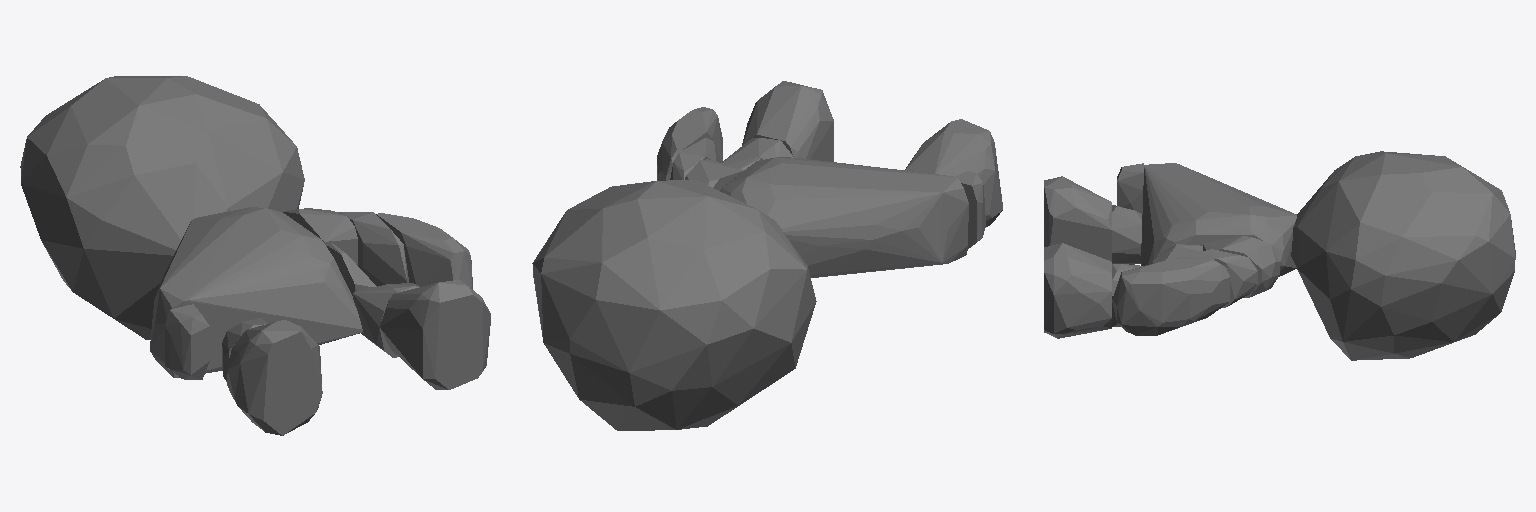
URDF robot description (toy_004):
<?xml version="1.0" ?>
<robot name="toy_004">
  <material name="color">
    <color rgba=".5 .5 .5 1"/>
  </material>

  <link name="base_link">
    <contact>
      <lateral_friction value="1.0"/>
      <rolling_friction value="0.001"/>
      <spinning_friction value="0.001"/>
      <inertia_scaling value="1.0"/>
    </contact>
    <inertial>
      <origin rpy="0 0 0" xyz="-0.00978458 1.54031 -0.0658934"/>
       <mass value="0.1"/>
       <inertia ixx="1" ixy="0" ixz="0" iyy="1" iyz="0" izz="1"/>
    </inertial>

    <visual>
      <origin rpy="0 0 0" xyz="0 0 0"/>
      <geometry>
        <mesh filename="toy_004_vhacd_0_of_11.obj" scale="1 1 1"/>
      </geometry>
      <material name="color"/>
    </visual>
    <visual>
      <origin rpy="0 0 0" xyz="0 0 0"/>
      <geometry>
        <mesh filename="toy_004_vhacd_1_of_11.obj" scale="1 1 1"/>
      </geometry>
      <material name="color"/>
    </visual>
    <visual>
      <origin rpy="0 0 0" xyz="0 0 0"/>
      <geometry>
        <mesh filename="toy_004_vhacd_2_of_11.obj" scale="1 1 1"/>
      </geometry>
      <material name="color"/>
    </visual>
    <visual>
      <origin rpy="0 0 0" xyz="0 0 0"/>
      <geometry>
        <mesh filename="toy_004_vhacd_3_of_11.obj" scale="1 1 1"/>
      </geometry>
      <material name="color"/>
    </visual>
    <visual>
      <origin rpy="0 0 0" xyz="0 0 0"/>
      <geometry>
        <mesh filename="toy_004_vhacd_4_of_11.obj" scale="1 1 1"/>
      </geometry>
      <material name="color"/>
    </visual>
    <visual>
      <origin rpy="0 0 0" xyz="0 0 0"/>
      <geometry>
        <mesh filename="toy_004_vhacd_5_of_11.obj" scale="1 1 1"/>
      </geometry>
      <material name="color"/>
    </visual>
    <visual>
      <origin rpy="0 0 0" xyz="0 0 0"/>
      <geometry>
        <mesh filename="toy_004_vhacd_6_of_11.obj" scale="1 1 1"/>
      </geometry>
      <material name="color"/>
    </visual>
    <visual>
      <origin rpy="0 0 0" xyz="0 0 0"/>
      <geometry>
        <mesh filename="toy_004_vhacd_7_of_11.obj" scale="1 1 1"/>
      </geometry>
      <material name="color"/>
    </visual>
    <visual>
      <origin rpy="0 0 0" xyz="0 0 0"/>
      <geometry>
        <mesh filename="toy_004_vhacd_8_of_11.obj" scale="1 1 1"/>
      </geometry>
      <material name="color"/>
    </visual>
    <visual>
      <origin rpy="0 0 0" xyz="0 0 0"/>
      <geometry>
        <mesh filename="toy_004_vhacd_9_of_11.obj" scale="1 1 1"/>
      </geometry>
      <material name="color"/>
    </visual>
    <visual>
      <origin rpy="0 0 0" xyz="0 0 0"/>
      <geometry>
        <mesh filename="toy_004_vhacd_10_of_11.obj" scale="1 1 1"/>
      </geometry>
      <material name="color"/>
    </visual>

    <collision>
      <origin rpy="0 0 0" xyz="0 0 0"/>
      <geometry>
        <mesh filename="toy_004_vhacd_0_of_11.obj" scale="1 1 1"/>
      </geometry>
    </collision>
    <collision>
      <origin rpy="0 0 0" xyz="0 0 0"/>
      <geometry>
        <mesh filename="toy_004_vhacd_1_of_11.obj" scale="1 1 1"/>
      </geometry>
    </collision>
    <collision>
      <origin rpy="0 0 0" xyz="0 0 0"/>
      <geometry>
        <mesh filename="toy_004_vhacd_2_of_11.obj" scale="1 1 1"/>
      </geometry>
    </collision>
    <collision>
      <origin rpy="0 0 0" xyz="0 0 0"/>
      <geometry>
        <mesh filename="toy_004_vhacd_3_of_11.obj" scale="1 1 1"/>
      </geometry>
    </collision>
    <collision>
      <origin rpy="0 0 0" xyz="0 0 0"/>
      <geometry>
        <mesh filename="toy_004_vhacd_4_of_11.obj" scale="1 1 1"/>
      </geometry>
    </collision>
    <collision>
      <origin rpy="0 0 0" xyz="0 0 0"/>
      <geometry>
        <mesh filename="toy_004_vhacd_5_of_11.obj" scale="1 1 1"/>
      </geometry>
    </collision>
    <collision>
      <origin rpy="0 0 0" xyz="0 0 0"/>
      <geometry>
        <mesh filename="toy_004_vhacd_6_of_11.obj" scale="1 1 1"/>
      </geometry>
    </collision>
    <collision>
      <origin rpy="0 0 0" xyz="0 0 0"/>
      <geometry>
        <mesh filename="toy_004_vhacd_7_of_11.obj" scale="1 1 1"/>
      </geometry>
    </collision>
    <collision>
      <origin rpy="0 0 0" xyz="0 0 0"/>
      <geometry>
        <mesh filename="toy_004_vhacd_8_of_11.obj" scale="1 1 1"/>
      </geometry>
    </collision>
    <collision>
      <origin rpy="0 0 0" xyz="0 0 0"/>
      <geometry>
        <mesh filename="toy_004_vhacd_9_of_11.obj" scale="1 1 1"/>
      </geometry>
    </collision>
    <collision>
      <origin rpy="0 0 0" xyz="0 0 0"/>
      <geometry>
        <mesh filename="toy_004_vhacd_10_of_11.obj" scale="1 1 1"/>
      </geometry>
    </collision>

  </link>
</robot>

--- What the picture shows (computed from the rendered views, not written in the file) ---
Views: 3 orthographic renders of the robot side by side, from view 1: azimuth 30°, elevation 25°; view 2: azimuth 150°, elevation 25°; view 3: azimuth 270°, elevation 25°.
Model toy_004 with 1 links and 0 joints (none), rooted at base_link, posed every joint at zero.
Links seen in each view (by area): view 1: base_link; view 2: base_link; view 3: base_link.
Link boxes in pixels (<box>): base_link: <box>20,76,490,435</box>; base_link: <box>532,81,1002,430</box>; base_link: <box>1044,151,1515,360</box>.
Bounding box of the posed robot: 0.1274 × 0.2102 × 0.0924 m (x, y, z).
Meshes: 11 distinct files referenced, 11 mesh visuals loaded (11 OBJ).